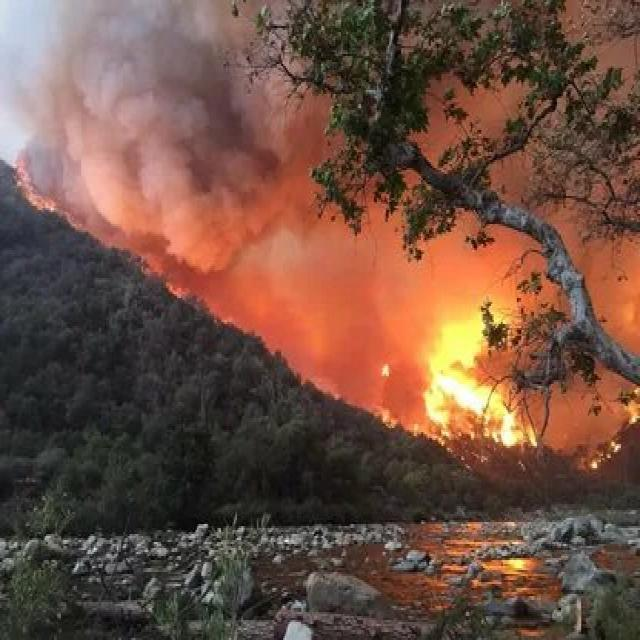Fire: (362, 246, 562, 510)
Smoke: (13, 0, 429, 282)
